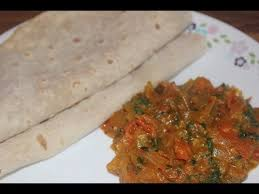curry: (100, 74, 257, 183)
roti: (1, 1, 208, 177)
